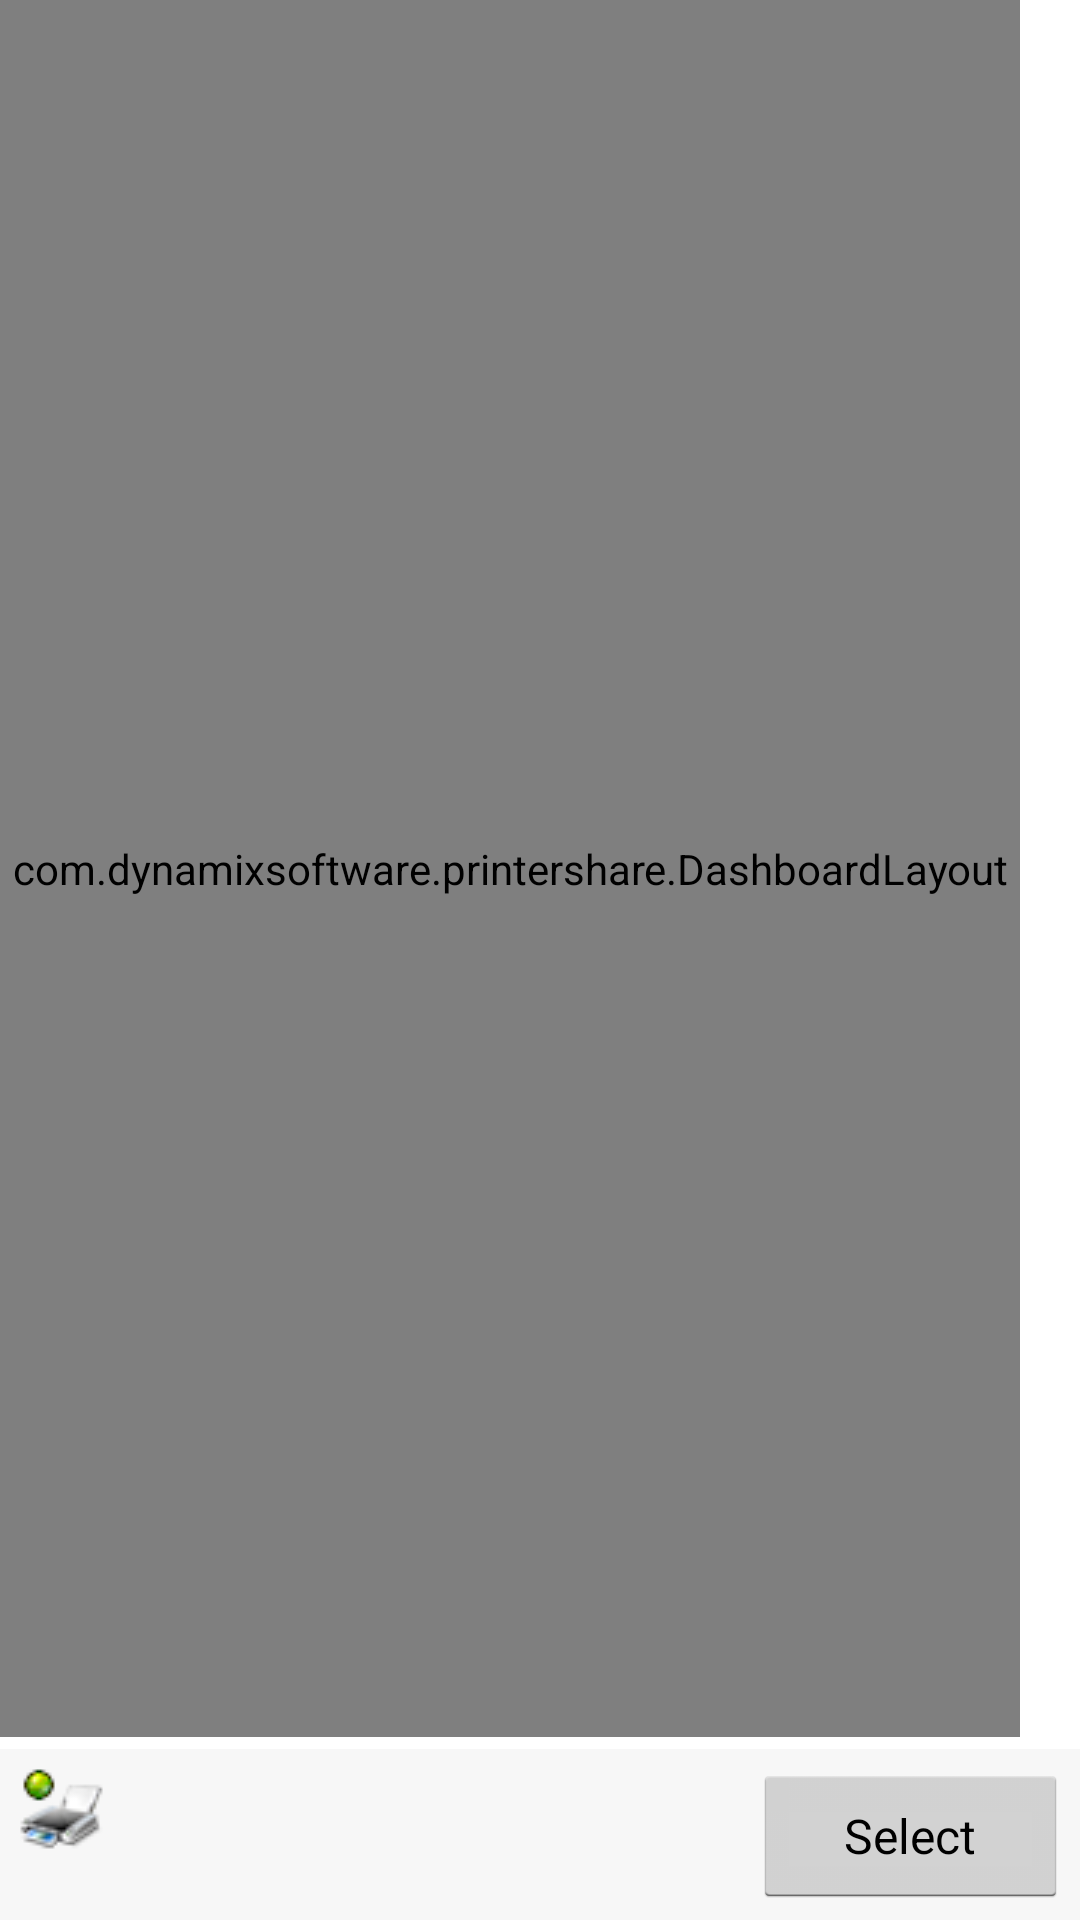

Icons on this 1080*1920 Android screen, each with its box as {"left": x1, "top": y1, "right": x2, "bottom": y2}:
printer on: {"left": 20, "top": 1769, "right": 103, "bottom": 1849}
